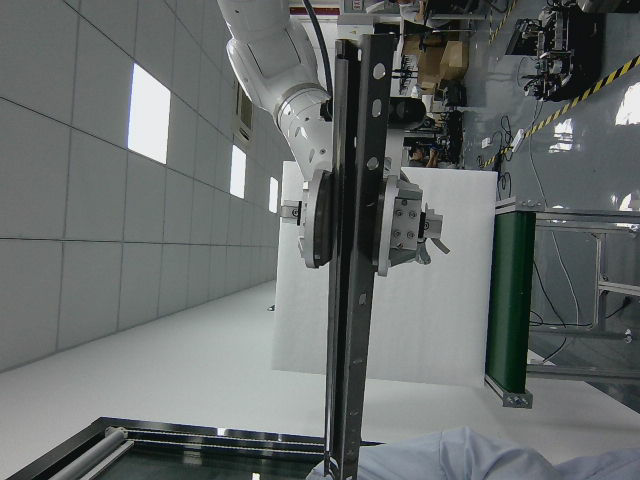right: (306, 32, 395, 477)
